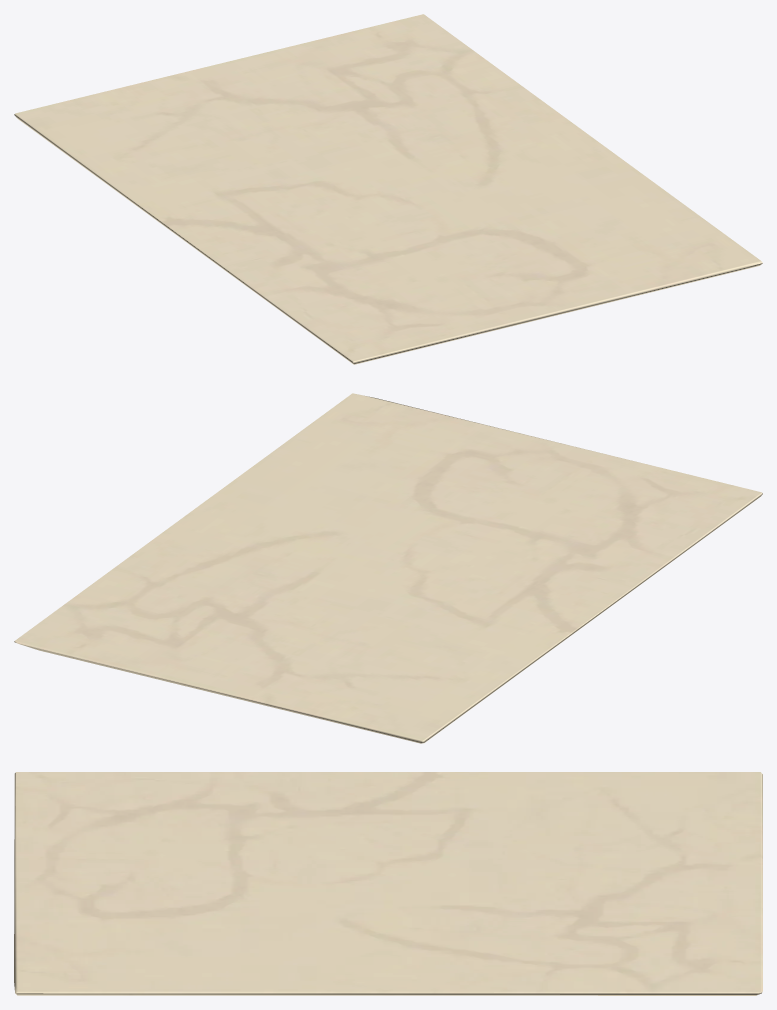
3 renders of one model, top to bottom at view 1: azimuth 30°, elevation 25°; view 2: azimuth 150°, elevation 25°; view 3: azimuth 270°, elevation 25°, orthographic. The views are drawn at different scales.
Visible parts, largest first — view 1: ASY_ART_90625772_S01_NV01; view 2: ASY_ART_90625772_S01_NV01; view 3: ASY_ART_90625772_S01_NV01.
Boxes of the visible parts, x1=… form: ASY_ART_90625772_S01_NV01: x1=14, y1=14, x2=762, y2=364; ASY_ART_90625772_S01_NV01: x1=14, y1=393, x2=762, y2=743; ASY_ART_90625772_S01_NV01: x1=14, y1=772, x2=762, y2=995.
Bounding box in the file's own units: 1.61 × 0.0181 × 2.32.
Materials: 1 (1 with a texture image).
